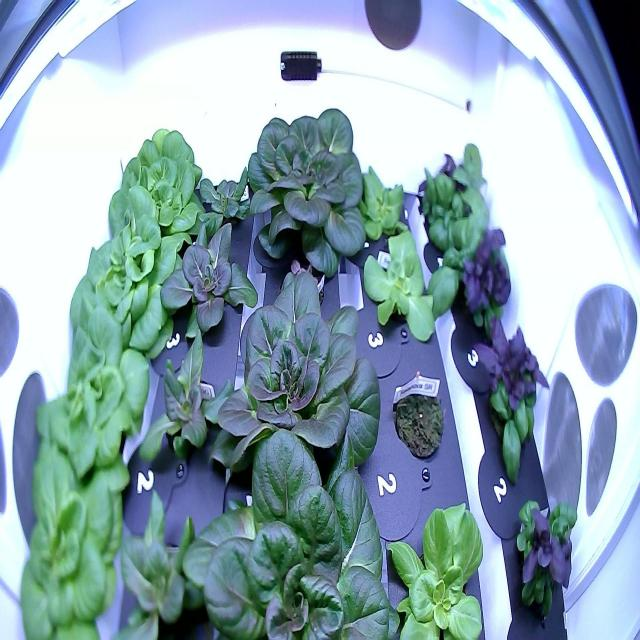pod: (389, 361, 446, 467)
young: (173, 420, 405, 640), (198, 257, 389, 500), (234, 92, 372, 284), (62, 174, 191, 374), (26, 298, 156, 493), (18, 428, 132, 640), (110, 473, 229, 640), (376, 483, 490, 639), (132, 316, 236, 484), (100, 113, 204, 250), (156, 214, 262, 348), (357, 221, 439, 356), (191, 147, 255, 243), (351, 158, 413, 248)
